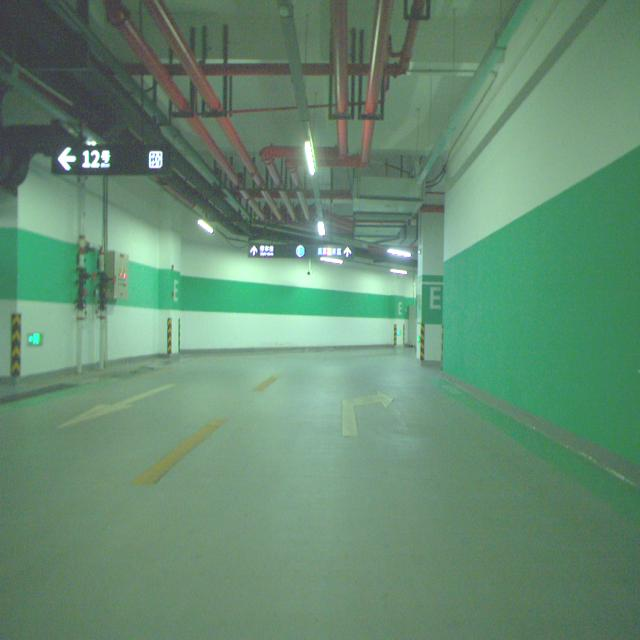wall: (159, 233, 181, 355)
